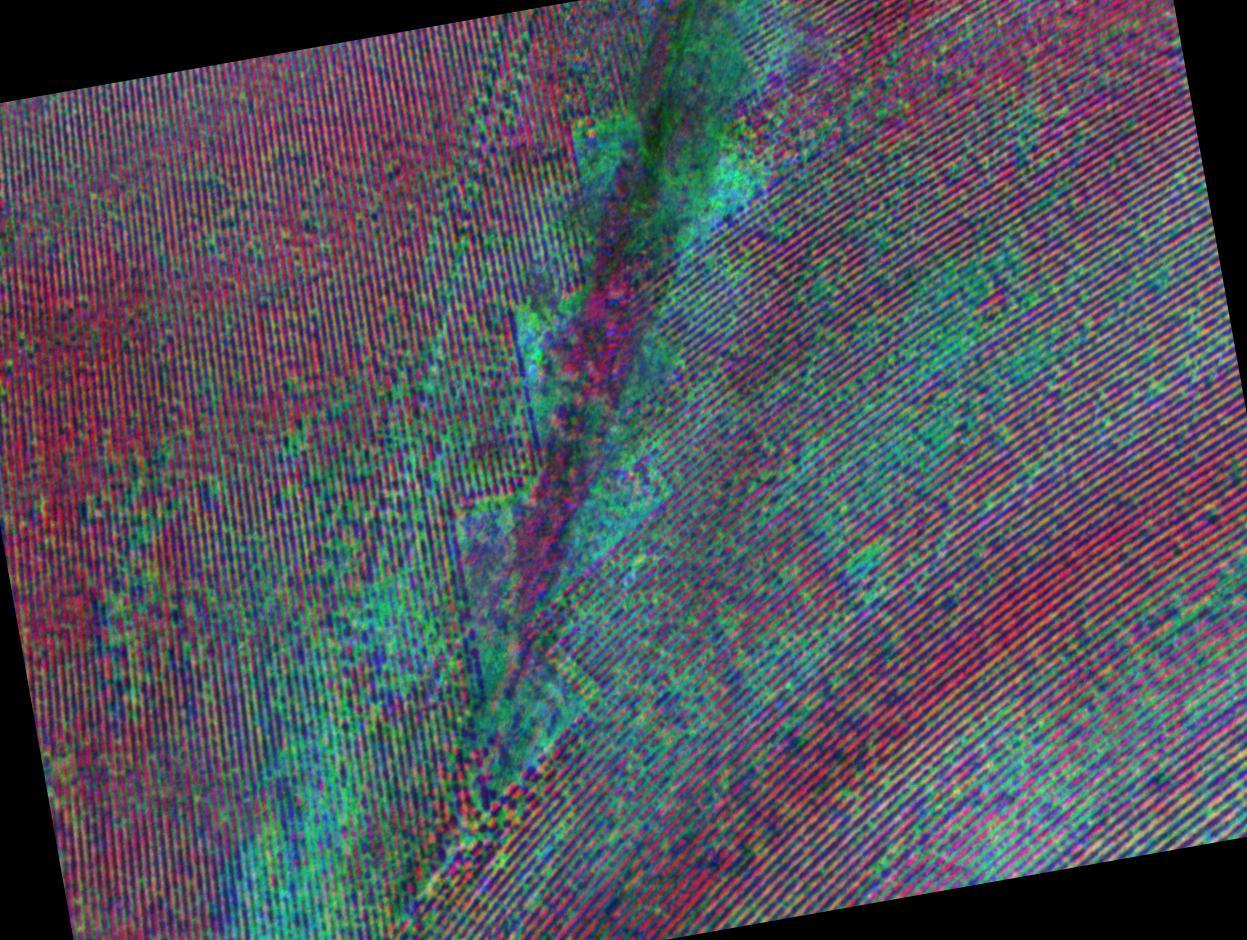dc: (286, 575, 428, 710), (233, 825, 353, 940), (863, 383, 931, 478), (693, 145, 750, 211), (706, 35, 759, 96), (498, 298, 550, 357)
